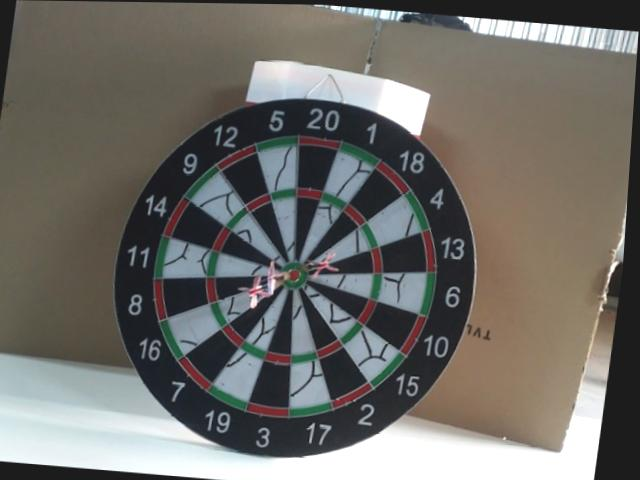bullseye: (279, 261, 308, 290)
